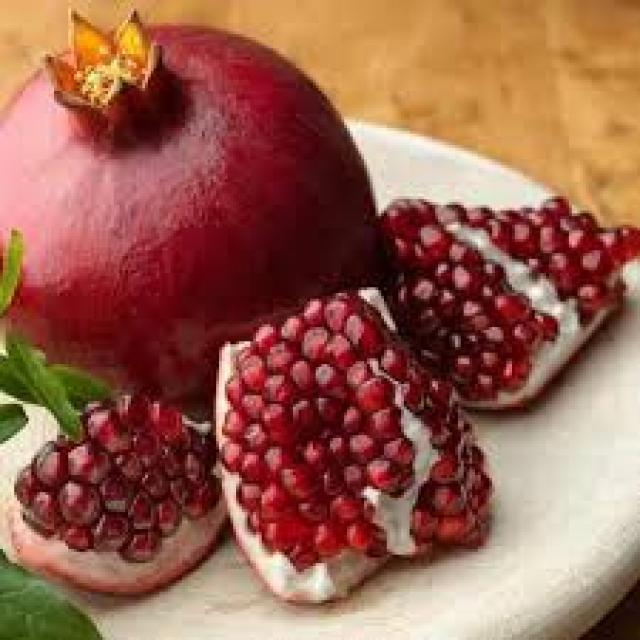organic waste: (0, 3, 384, 404), (213, 284, 495, 603), (381, 197, 637, 416), (3, 387, 253, 597)
